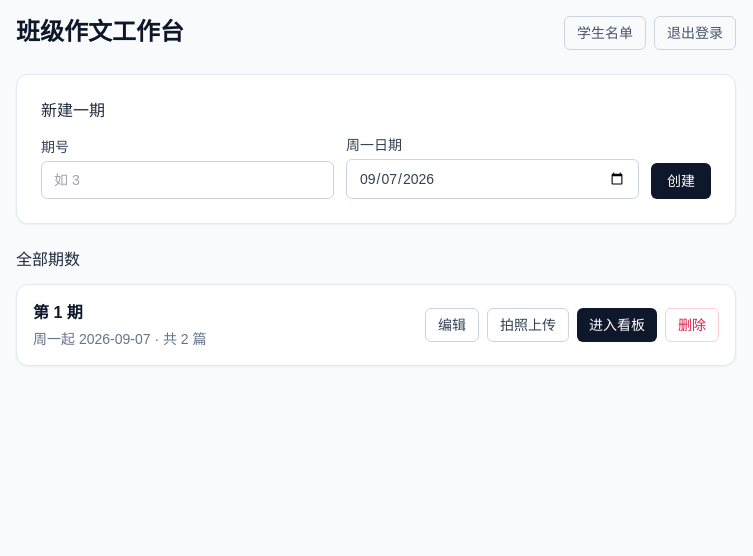
Test: IssuePage 编辑期数（v1.2 OPT-02） › surfaces the backend message when the issue number collides
This screenshot has width=753, height=556.
Expected: the text "第 1 期" is shown, [33,304,83,321]
Click the button with test id "edit-issue" at [452, 325], box [425,308,479,342]
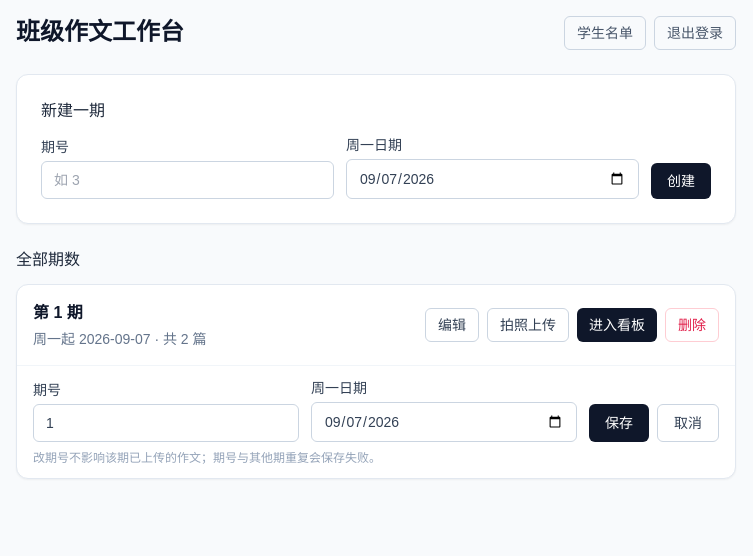
Result: the number field with test id "edit-issue-no" is shown at [33,404,299,442]
Click the button "保存" at [619, 423], box [589,404,649,442]
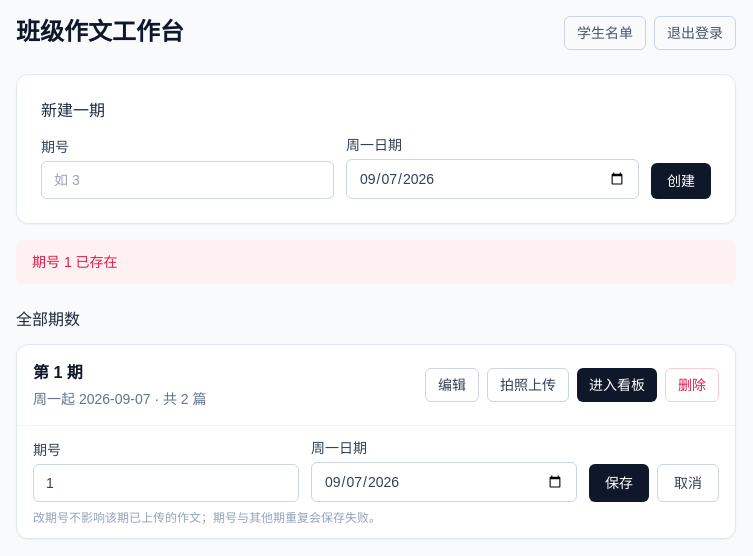
Result: the text "期号 1 已存在" is shown at [16,240,736,284]
